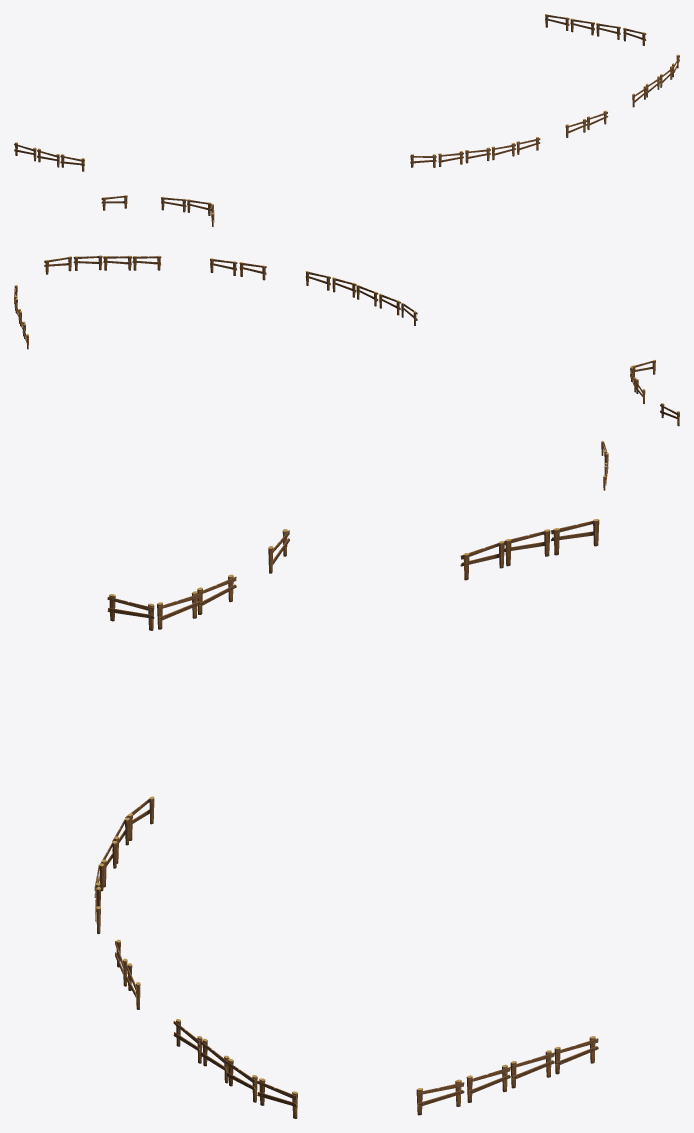
The model's file is Area_09_27.fbx.
The picture shows the model from 3 angles, top to bottom: view 1: azimuth 30°, elevation 25°; view 2: azimuth 150°, elevation 25°; view 3: azimuth 270°, elevation 25°; orthographic projection. The views are drawn at different scales.
Visible parts, largest first — view 1: Area_09_27; view 2: Area_09_27; view 3: Area_09_27.
Part boxes in pixels (bbox=[...]): Area_09_27: bbox=[14, 14, 679, 226]; Area_09_27: bbox=[14, 255, 679, 490]; Area_09_27: bbox=[94, 519, 599, 1118].
Bounding box in the file's own units: 6721 × 151 × 2487.
